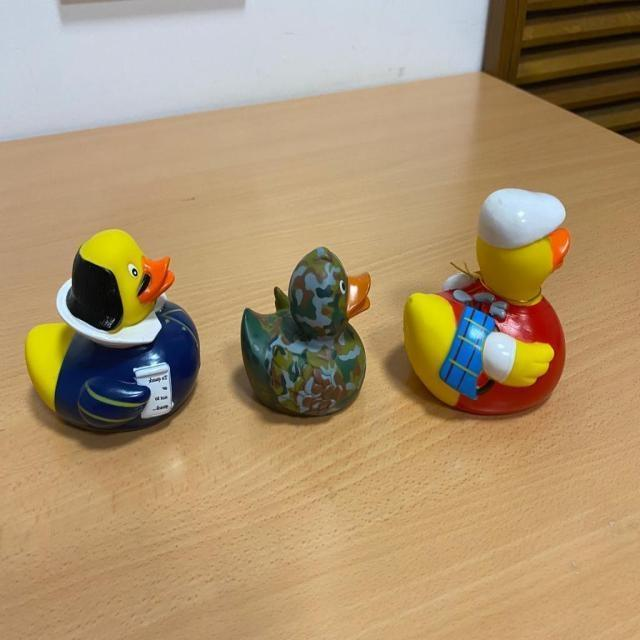rubber-duck: (403, 187, 568, 412), (24, 228, 198, 430), (240, 246, 369, 414)
